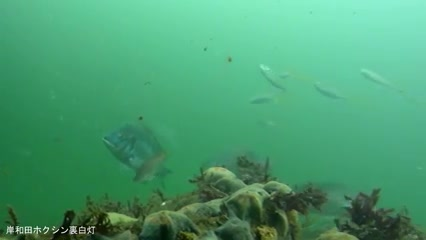smallfish: (92, 116, 175, 186), (359, 62, 407, 94), (255, 57, 287, 91)
